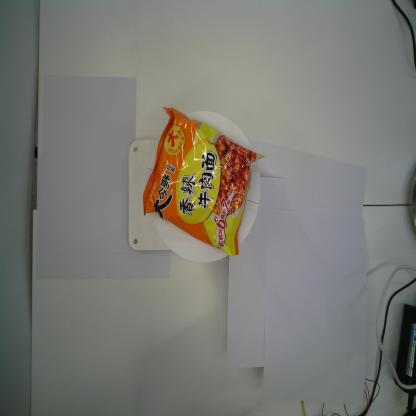Instant Noodles: (142, 105, 265, 257)
